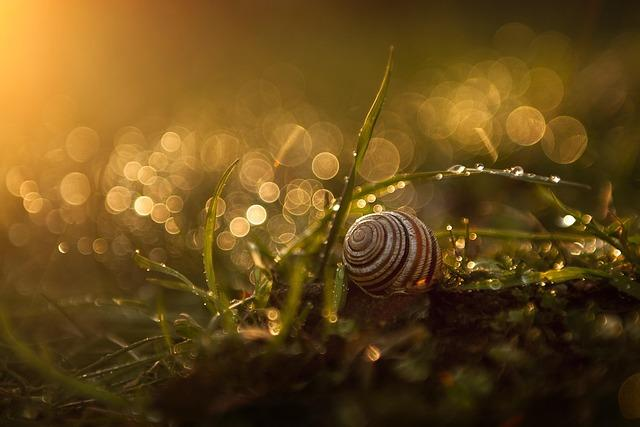Non_Gorille: (161, 118, 520, 359)
